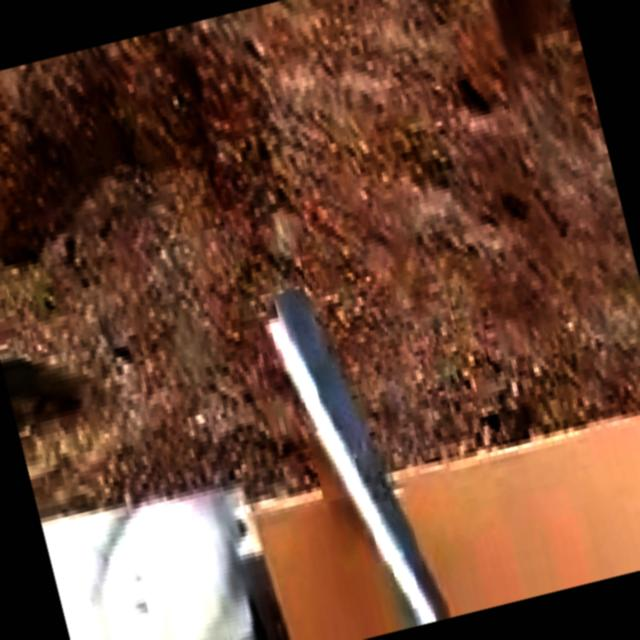eto: (266, 283, 447, 621)
